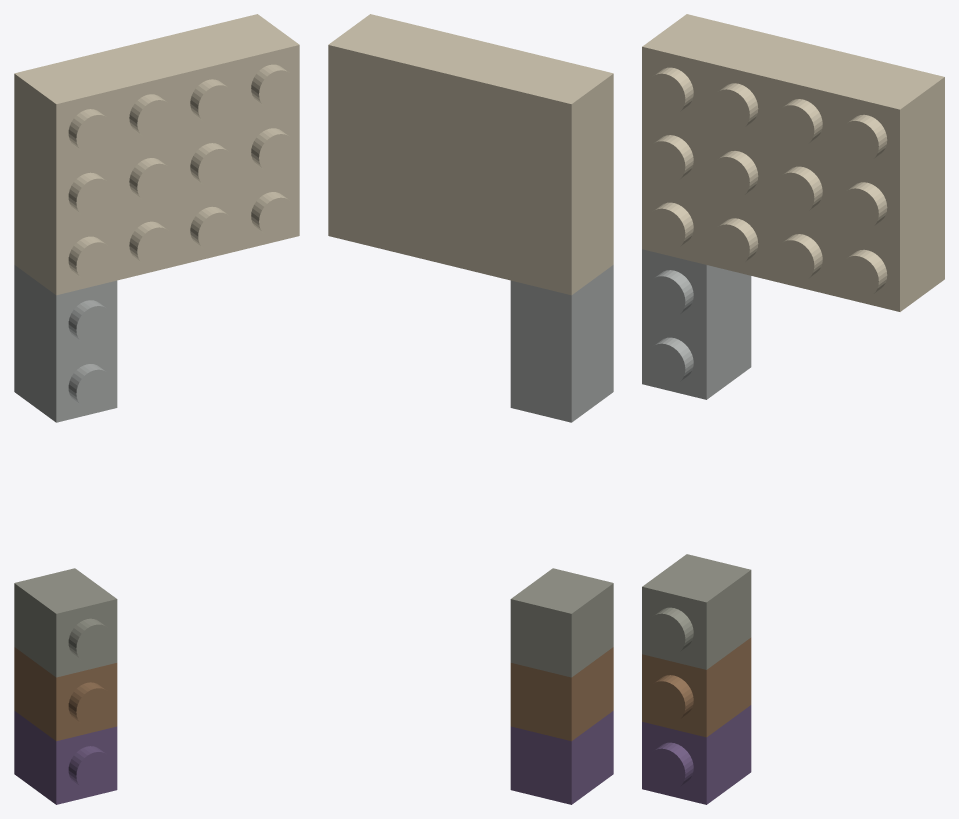
File: current.glb
The picture shows the model from 3 angles, left to right: view 1: azimuth 30°, elevation 25°; view 2: azimuth 150°, elevation 25°; view 3: azimuth 330°, elevation 25°; orthographic projection. The views are drawn at different scales.
Visible parts, largest first — view 1: world; view 2: world; view 3: world.
Boxes of the visible parts, bbox=[...] form: world: bbox=[14, 14, 299, 804]; world: bbox=[328, 14, 613, 804]; world: bbox=[642, 14, 944, 804].
Bounding box in the file's own units: 32 × 88 × 11.4.
